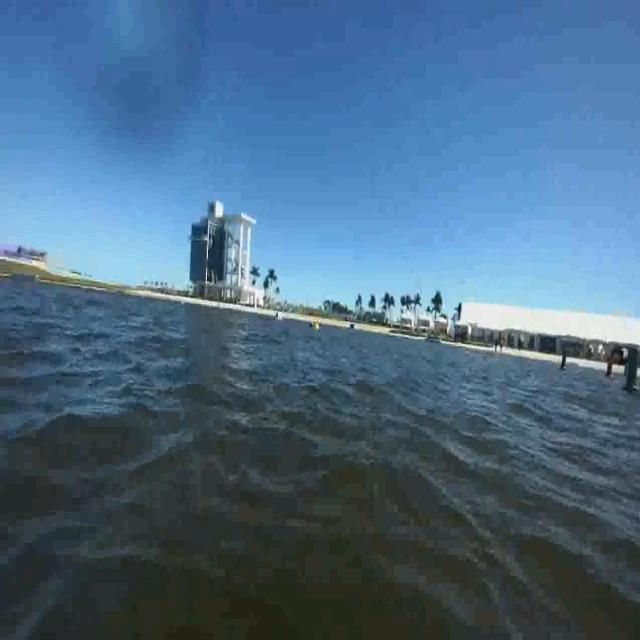green-column-buoy: (620, 345, 640, 394), (559, 344, 570, 371)
red-column-buoy: (605, 350, 616, 379)
yellow-buoy: (315, 320, 320, 330)
